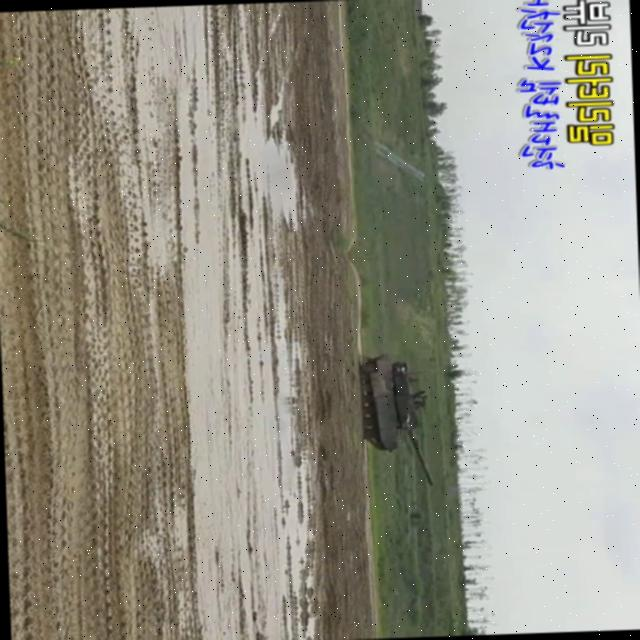korea tank: (358, 351, 436, 488)
